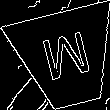M_S: (38, 29, 95, 89)
